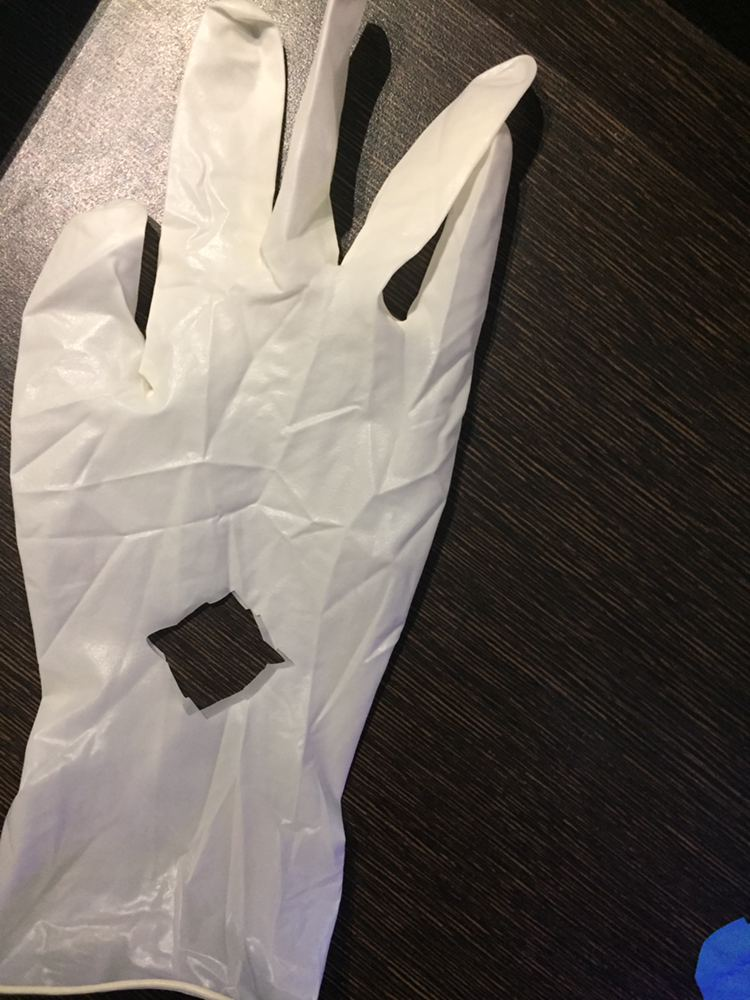defected: (19, 1, 550, 922)
